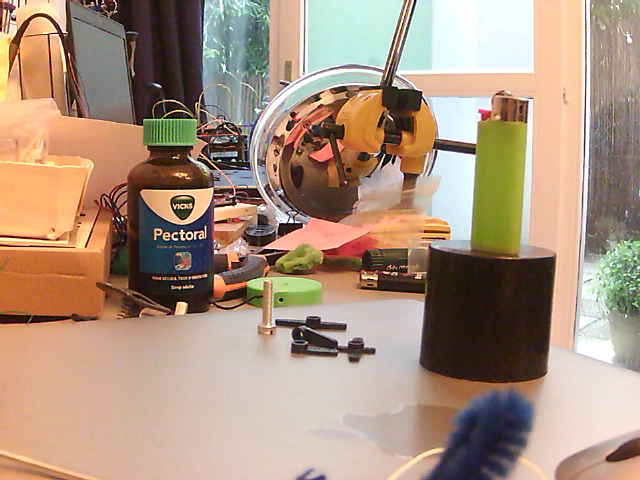bolt: (258, 277, 276, 336)
lighter: (468, 90, 531, 255), (357, 267, 429, 296)
